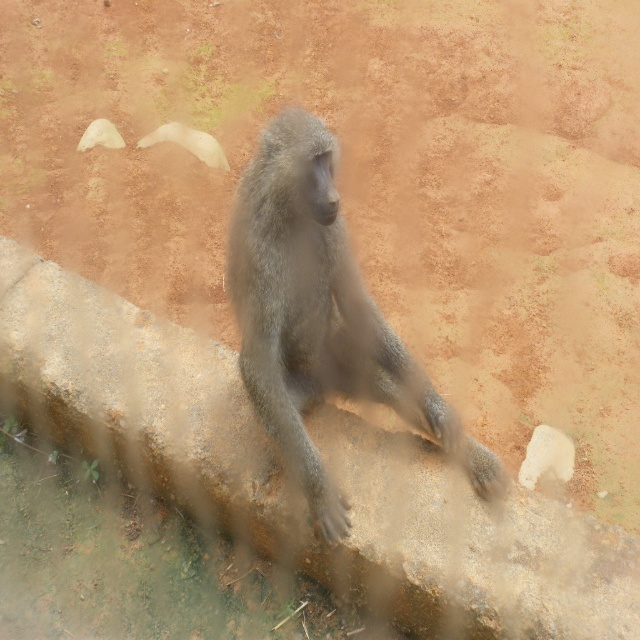Monkey: (211, 113, 511, 558)
